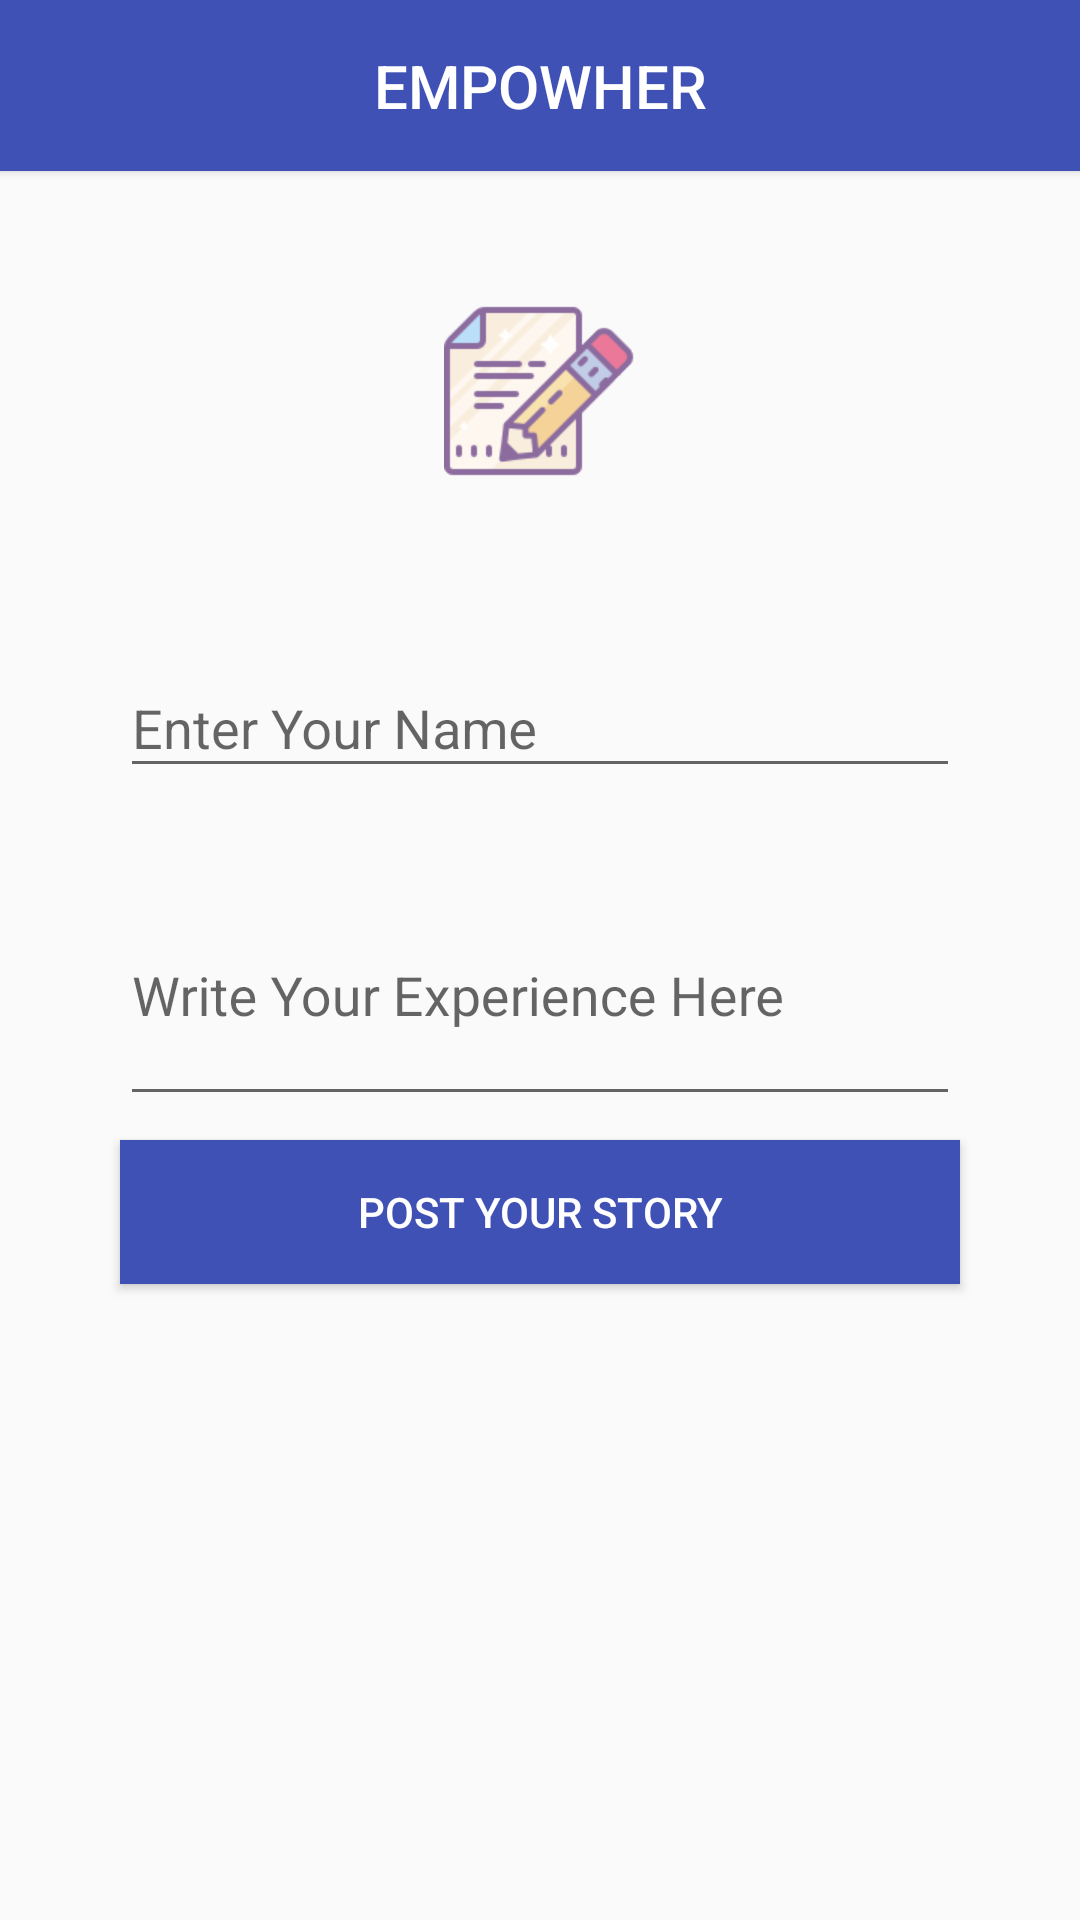

Icon click points for this 1080 x 1920 phone screenshot, format point (x, y):
story: point (538, 391)
